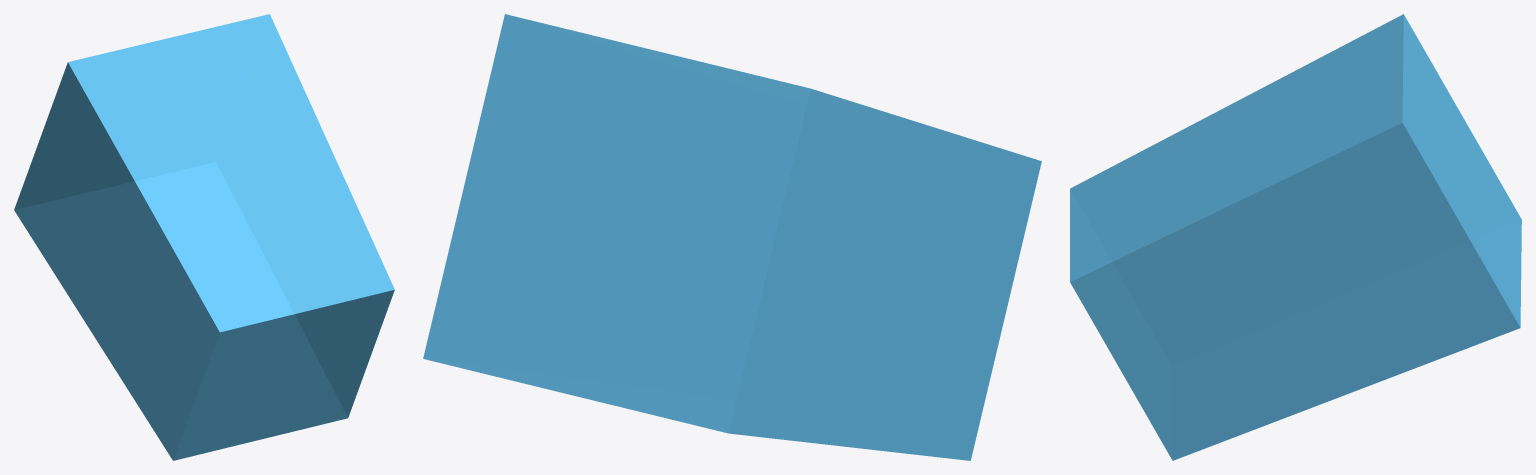
File: Event_421364160_HBrechit_24.fbx
The picture shows the model from 3 angles, left to right: view 1: azimuth 30°, elevation 25°; view 2: azimuth 150°, elevation 25°; view 3: azimuth 270°, elevation 25°; orthographic projection. The views are drawn at different scales.
Parts seen in each view (by area): view 1: Model; view 2: Model; view 3: Model.
Part boxes in pixels (bbox=[...]): Model: bbox=[14, 14, 394, 460]; Model: bbox=[423, 14, 1041, 460]; Model: bbox=[1070, 14, 1521, 460].
Bounding box in the file's own units: 0.4615 × 0.7045 × 0.8167.
